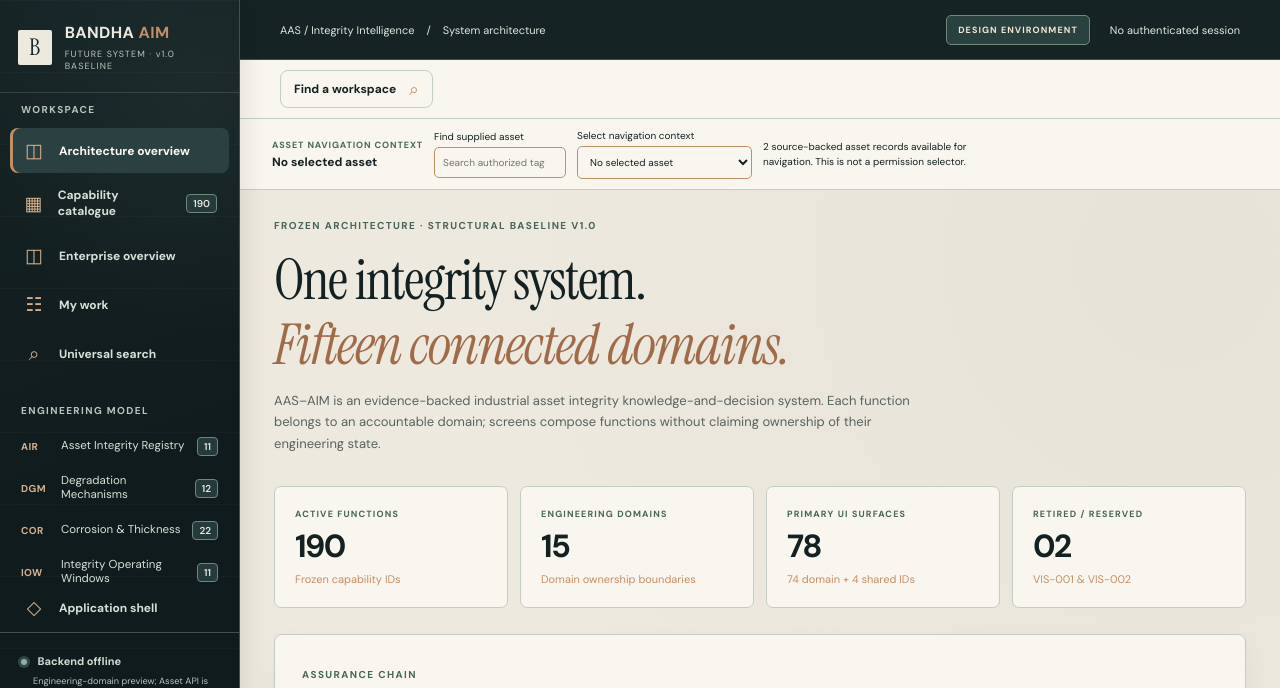
Test: Phase 18 application shell integration › keeps Universal Search discoverable from the shared sidebar
Step 1. Click the button "⌕ Universal search" → point(120, 354), box [10, 331, 229, 376]
(page scrolled)
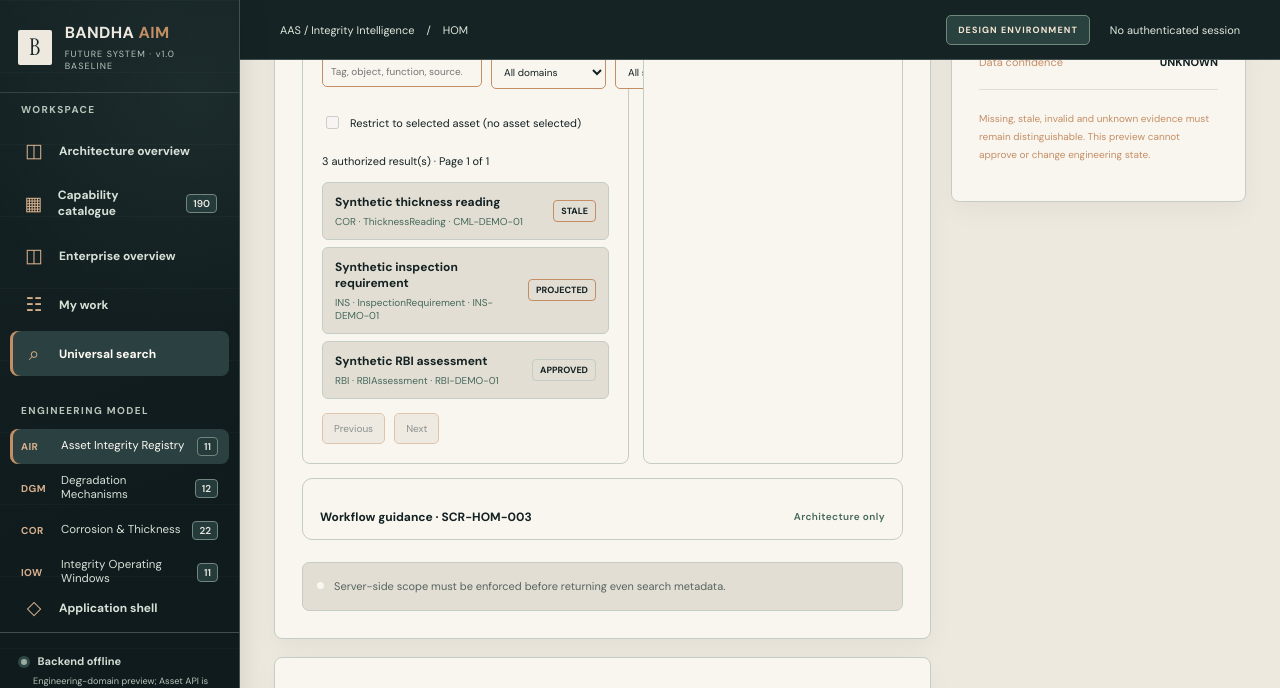
Check: the text "Synthetic RBI assessment" is shown, box [335, 353, 499, 369]
